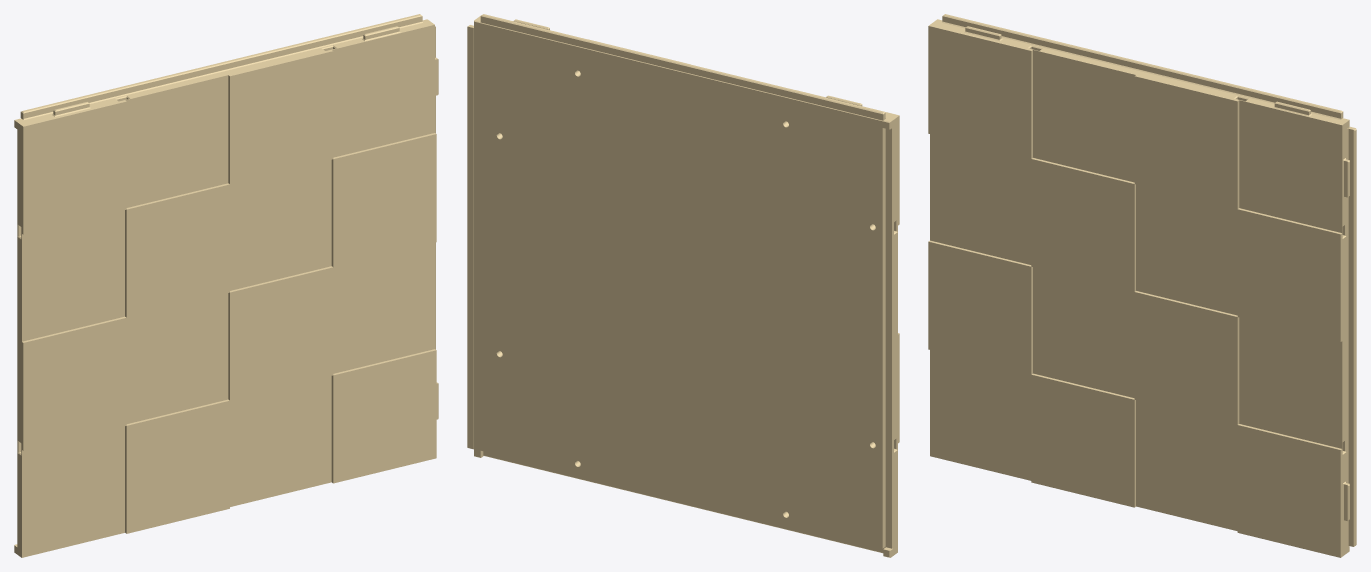
File: .quarter_sw_light_body.step.glb
3 renders of one model, left to right at view 1: azimuth 30°, elevation 25°; view 2: azimuth 150°, elevation 25°; view 3: azimuth 330°, elevation 25°, orthographic.
Parts seen in each view (by area): view 1: o1; view 2: o1; view 3: o1.
Boxes of the visible parts, x1,y1,x2,y2 form: o1: [14, 14, 438, 557]; o1: [467, 14, 899, 557]; o1: [928, 14, 1356, 557].
Size of the model in its own units: 0.244 by 0.244 by 0.0096.
